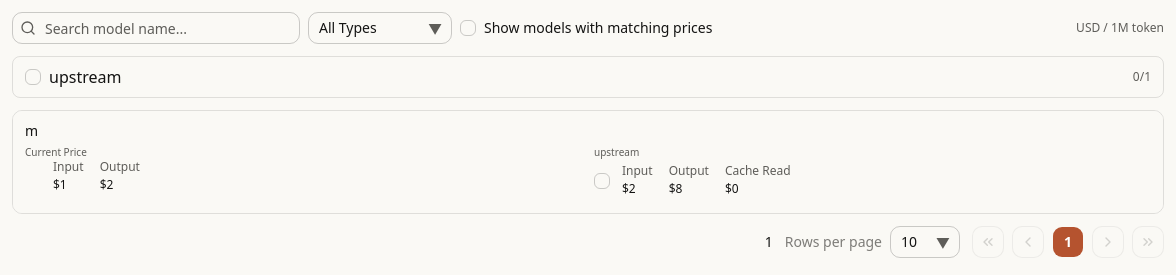
Test: pricing synchronization › shows a mobile comparison list and preserves source-wide selection
This screenshot has width=1176, height=275.
Check: the text "m" is shown, box [25,121,38,140]
Click the checkbox named "Select all prices from upstream" at (33, 77), box [25,69,41,85]
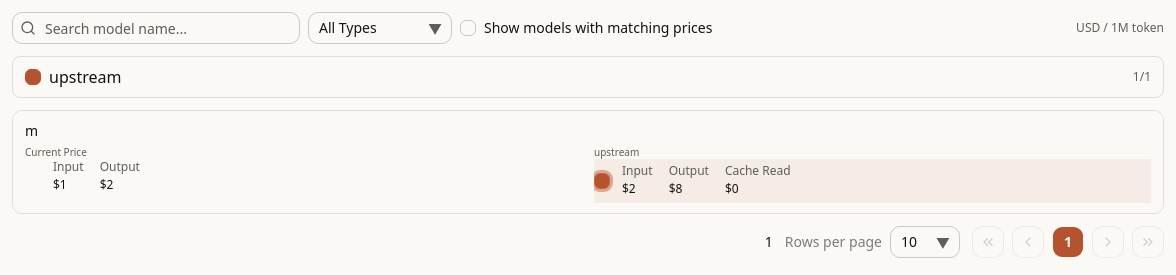
Type keys " "
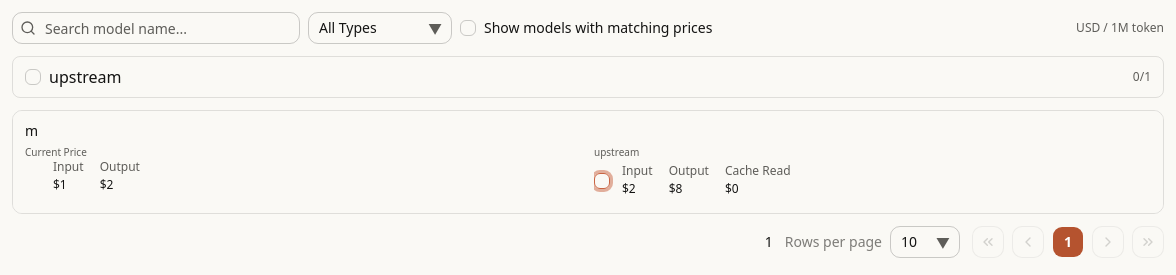
Check: the checkbox named "Select price for m from upstream" is not checked, box [594,173,610,189]
